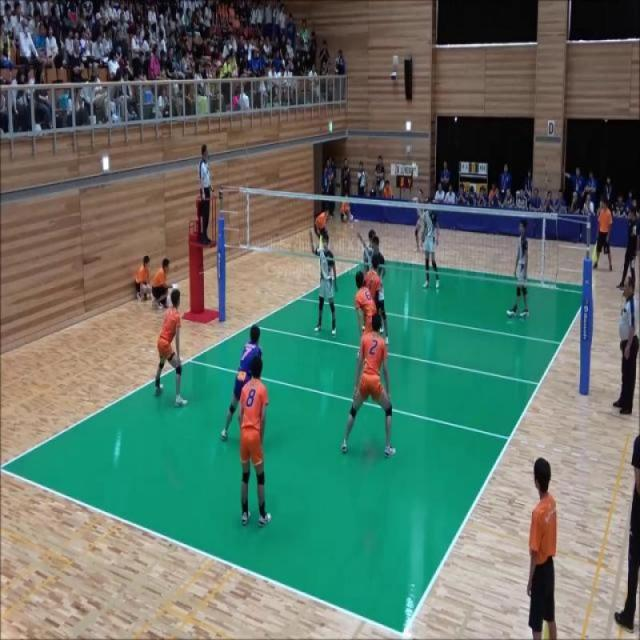volleyball: (412, 161, 416, 172), (349, 215, 354, 222)
